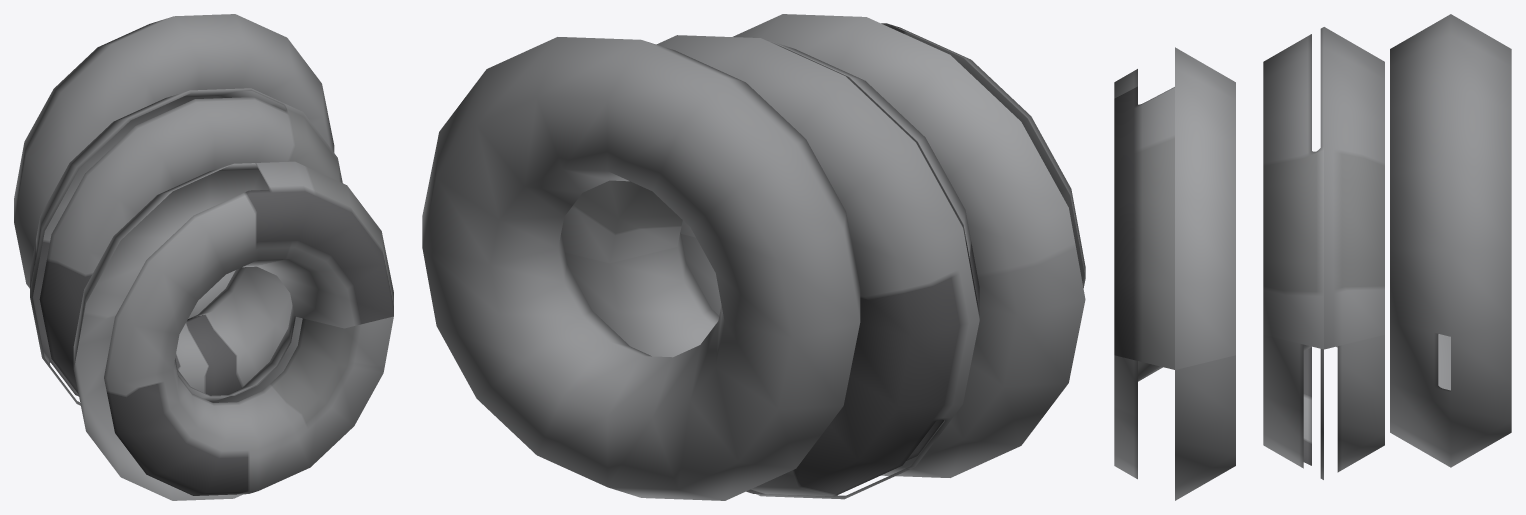
The picture shows the model from 3 angles, left to right: view 1: azimuth 30°, elevation 25°; view 2: azimuth 150°, elevation 25°; view 3: azimuth 270°, elevation 25°; orthographic projection. The views are drawn at different scales.
Size of the model in its own units: 1.14 by 1.13 by 0.8547.
